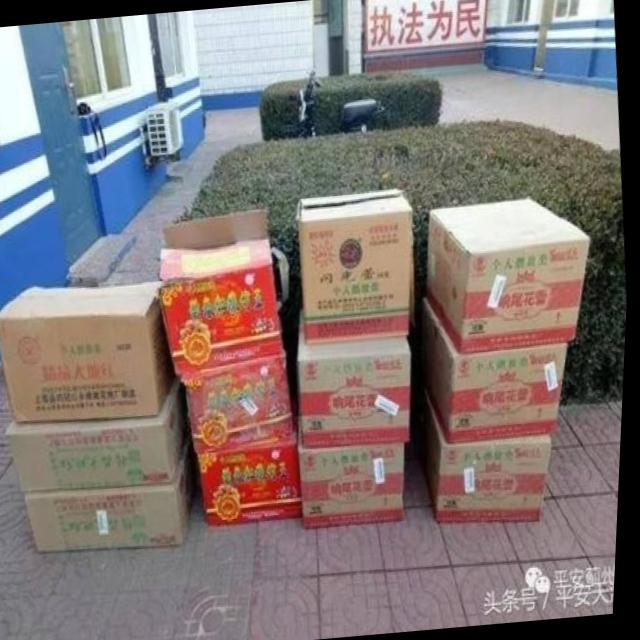box: (0, 280, 179, 422), (429, 198, 591, 352), (29, 417, 202, 552), (9, 375, 192, 490), (425, 297, 570, 442), (162, 210, 286, 375), (422, 374, 555, 520), (297, 188, 417, 343), (300, 309, 413, 447), (302, 415, 409, 528), (185, 348, 297, 453), (201, 423, 307, 526)
